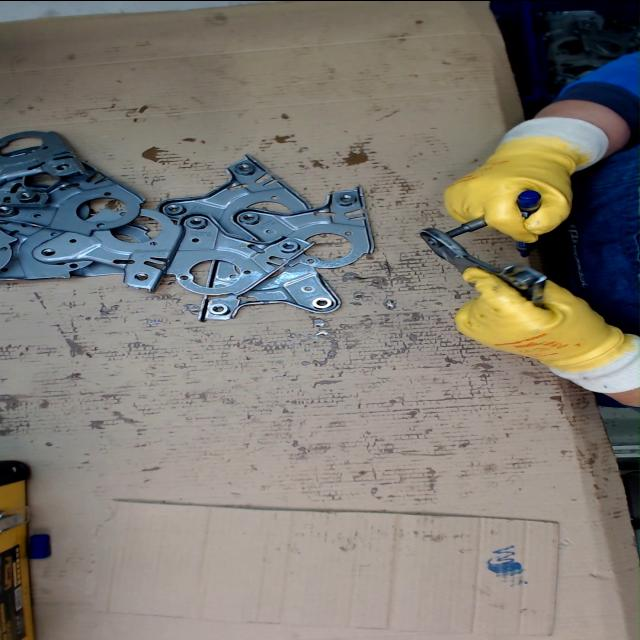hands: (452, 266, 628, 370), (442, 138, 578, 244)
